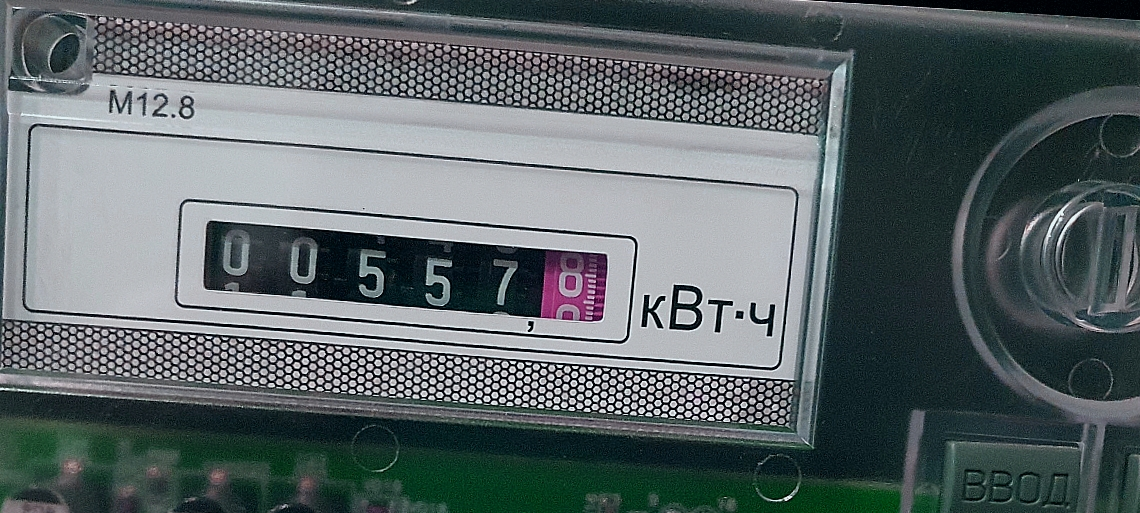0: (216, 222, 254, 280), (284, 232, 320, 286)
5: (417, 249, 458, 309), (352, 242, 389, 301)
7: (483, 252, 519, 309)
8: (555, 249, 586, 300)
screen: (167, 189, 643, 348)
